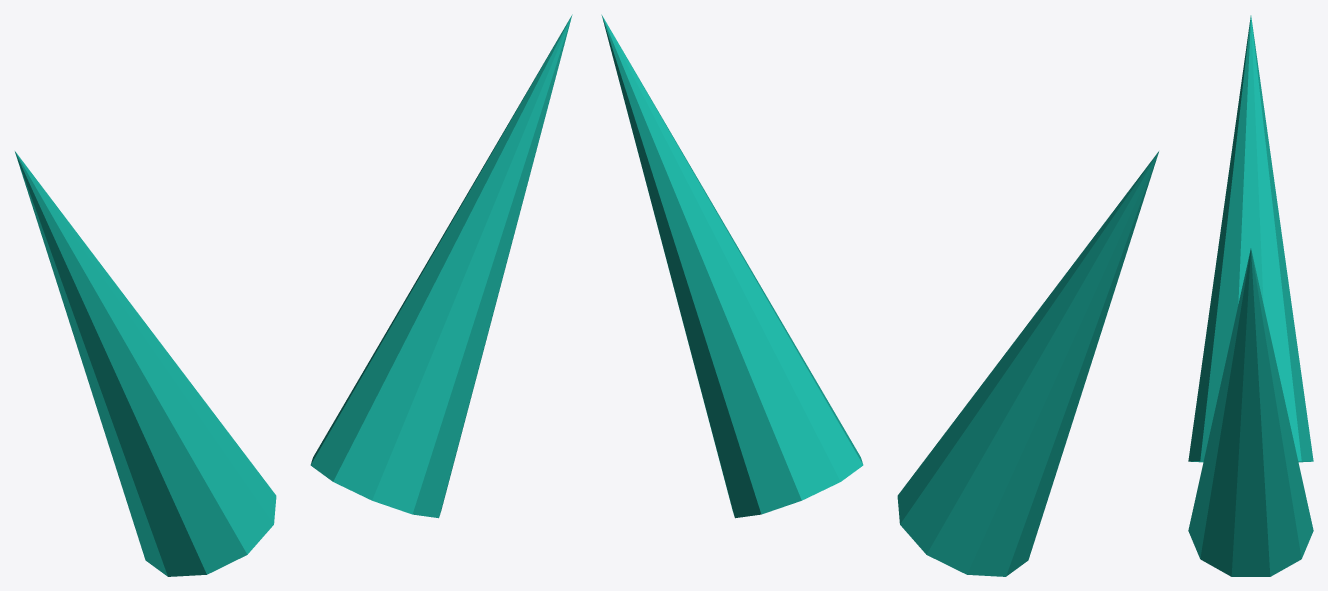
Rendered from top_horns.glb.
3 renders of one model, left to right at view 1: azimuth 30°, elevation 25°; view 2: azimuth 150°, elevation 25°; view 3: azimuth 270°, elevation 25°, orthographic. The views are drawn at different scales.
Parts seen in each view (by area): view 1: Horn1, Horn-1; view 2: Horn1, Horn-1; view 3: Horn1, Horn-1.
Boxes of the visible parts, left/top/right/bottom form: Horn1: left=310, top=14, right=572, bottom=518; Horn-1: left=15, top=151, right=276, bottom=576; Horn1: left=601, top=14, right=863, bottom=518; Horn-1: left=897, top=151, right=1158, bottom=576; Horn1: left=1188, top=248, right=1313, bottom=576; Horn-1: left=1188, top=15, right=1313, bottom=462.
Bounding box in the file's own units: 0.6175 × 0.4792 × 0.14.
